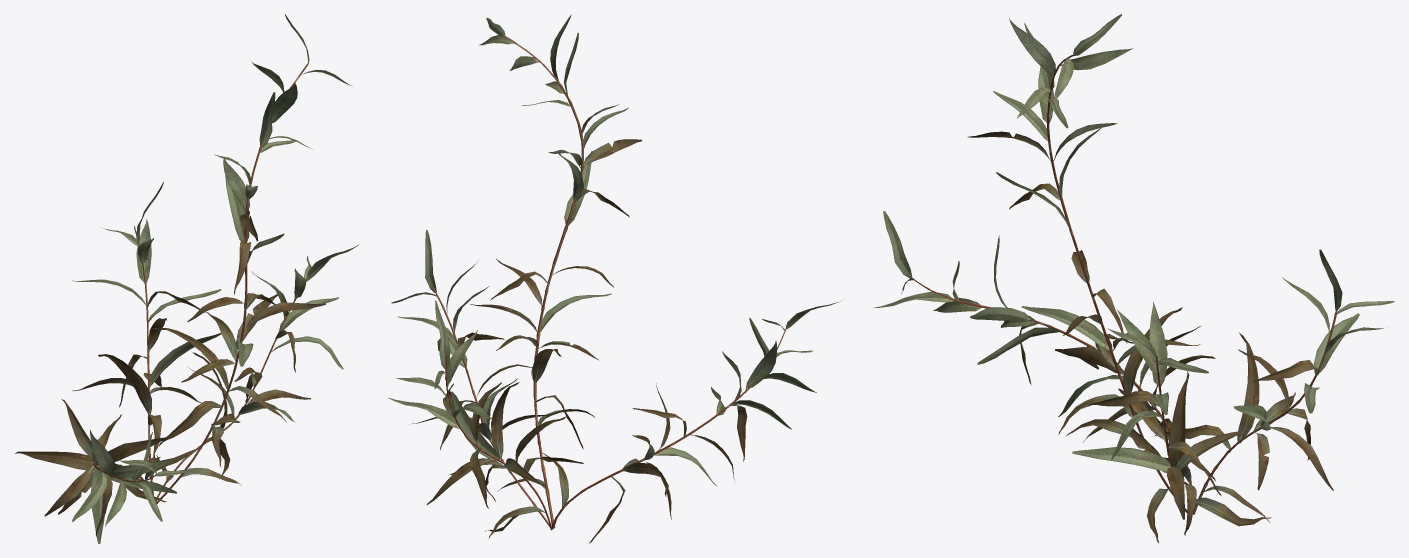
Rendered from broadleaf-shrub-b.glb.
The picture shows the model from 3 angles, left to right: view 1: azimuth 30°, elevation 25°; view 2: azimuth 150°, elevation 25°; view 3: azimuth 270°, elevation 25°; orthographic projection. The views are drawn at different scales.
Parts seen in each view (by area): view 1: shrub_02_b; view 2: shrub_02_b; view 3: shrub_02_b.
Boxes of the visible parts, left/top/right/bottom form: shrub_02_b: left=15, top=14, right=358, bottom=543; shrub_02_b: left=388, top=14, right=842, bottom=543; shrub_02_b: left=873, top=14, right=1394, bottom=542.
Bounding box in the file's own units: 1.11 × 1.51 × 1.28.
1 material, 1 textured.
